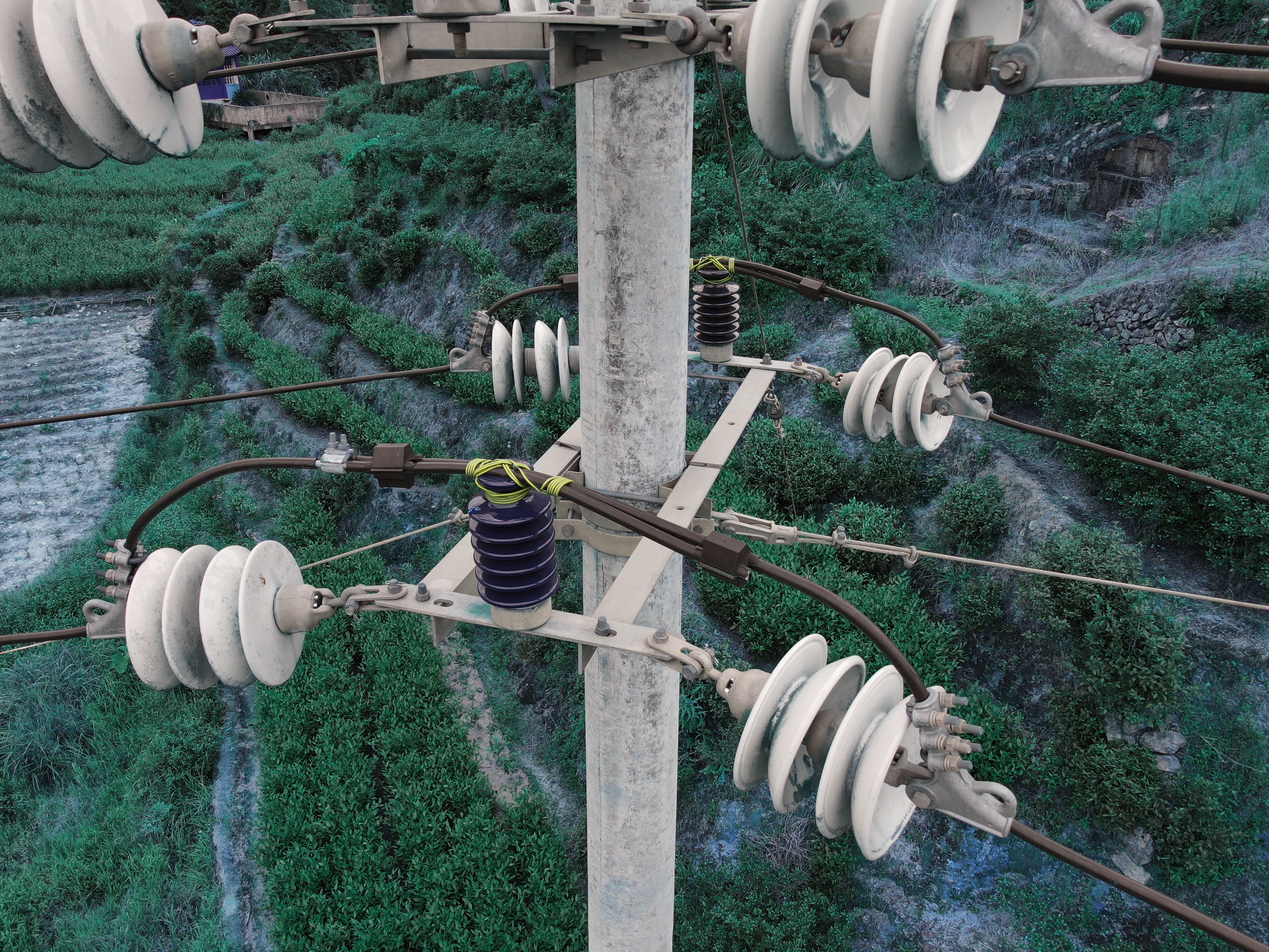severe_soiling_no_discharge_whole: (713, 1, 1027, 194), (712, 621, 927, 864), (4, 6, 233, 177), (123, 533, 331, 693), (833, 340, 951, 459), (489, 309, 583, 408)
